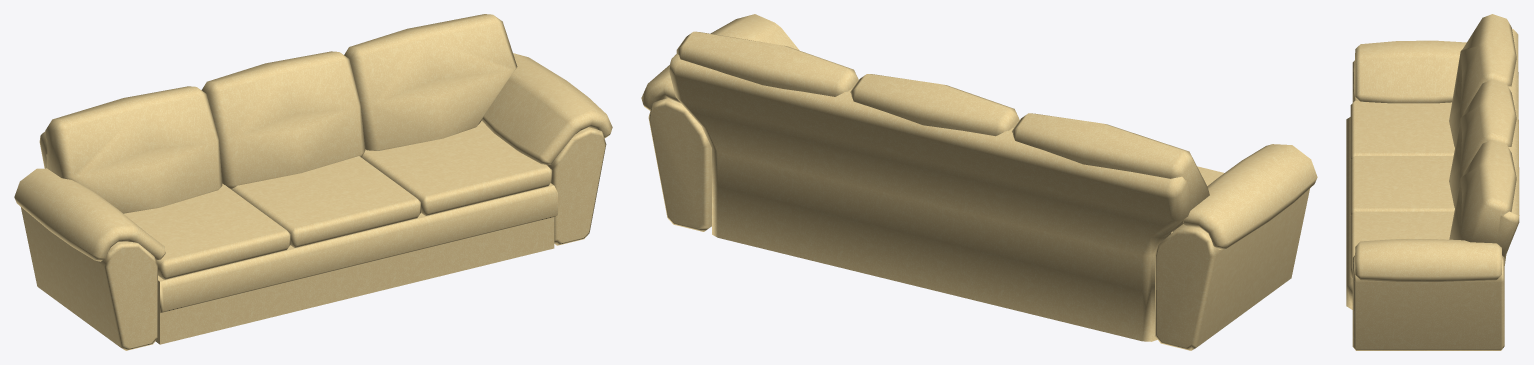
File: sofa_011.fbx
3 renders of one model, left to right at view 1: azimuth 30°, elevation 25°; view 2: azimuth 150°, elevation 25°; view 3: azimuth 270°, elevation 25°, orthographic. The views are drawn at different scales.
Visible parts, largest first — view 1: sofa_011; view 2: sofa_011; view 3: sofa_011.
Boxes of the visible parts, <box> form: sofa_011: <box>14,14,612,350</box>; sofa_011: <box>641,14,1317,350</box>; sofa_011: <box>1346,14,1519,350</box>.
Bounding box in the file's own units: 395 × 129 × 126.
